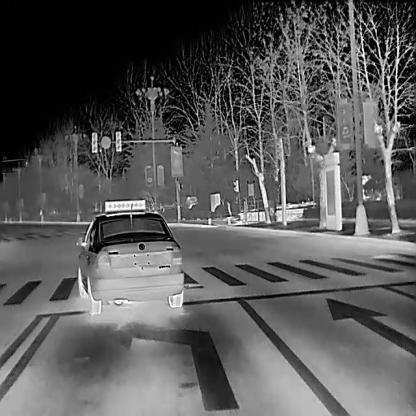car: (75, 199, 183, 316)
